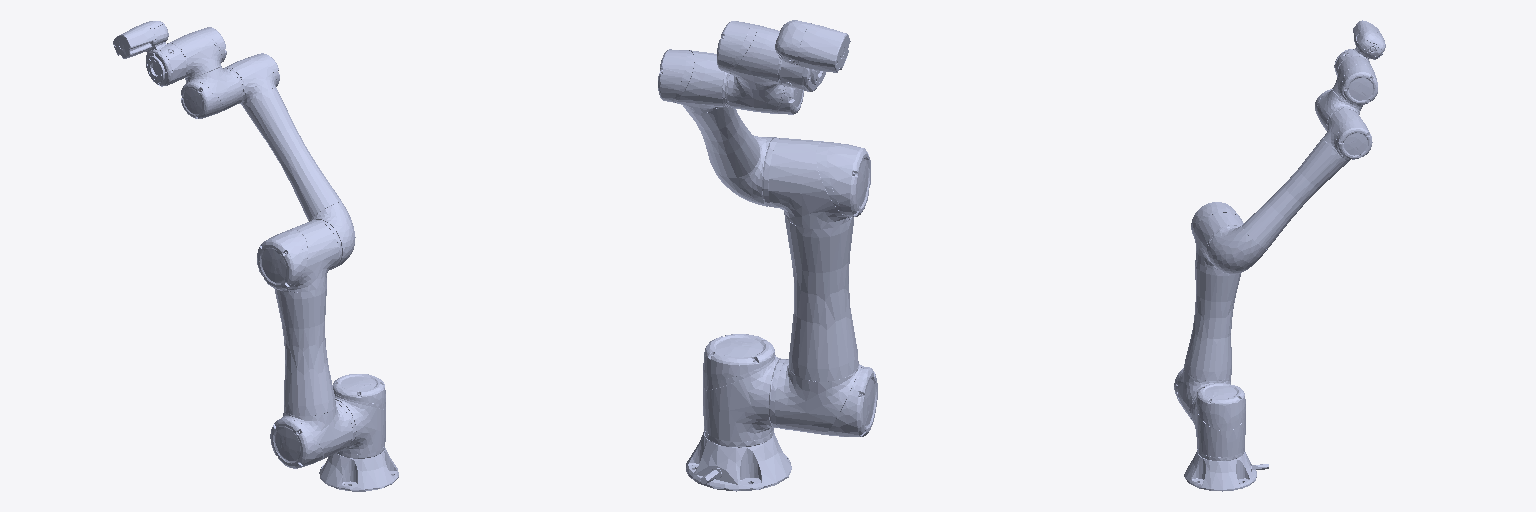
robot.urdf — tm5_900:
<?xml version="1.0" ?>
<!-- =================================================================================== -->
<!-- |    This document was autogenerated by xacro from src/tm5_900/urdf/tm5_900.urdf.xacro | -->
<!-- |    EDITING THIS FILE BY HAND IS NOT RECOMMENDED                                 | -->
<!-- =================================================================================== -->
<robot name="tm5_900">
  <link name="world"/>
  <joint name="base_joint" type="fixed">
    <origin rpy="0 0 0" xyz="0 0 0"/>
    <parent link="world"/>
    <child link="base_link"/>
  </joint>
  <link name="base_link">
    <inertial>
      <origin rpy="0 0 0" xyz="1.484e-06 0.000238812 0.028483455"/>
      <mass value="1.06337100987987"/>
      <inertia ixx="0.001820182" ixy="1.629e-06" ixz="-5.3e-08" iyy="0.001851119" iyz="-5.617e-06" izz="0.002906595"/>
    </inertial>
    <visual>
      <origin rpy="0 0 0" xyz="0 0 0"/>
      <geometry>
        <mesh filename="package://tm5_900/meshes/base_link.STL"/>
      </geometry>
      <material name="">
        <color rgba="0.792156862745098 0.819607843137255 0.933333333333333 1"/>
      </material>
    </visual>
    <!-- <collision>
        <origin xyz="0 0 0" rpy="0 0 0" />
        <geometry>
          <mesh filename="package://tm5_900/meshes/base_link.STL" />
        </geometry>
      </collision> -->
  </link>
  <link name="link1">
    <inertial>
      <origin rpy="0 0 0" xyz="-0.004985528 -0.001349578 0.079820705"/>
      <mass value="1.94965621478227"/>
      <inertia ixx="0.003360488" ixy="-1.7048e-05" ixz="0.000473241" iyy="0.003418932" iyz="0.000128103" izz="0.003748004"/>
    </inertial>
    <visual>
      <origin rpy="0 0 0" xyz="0 0 0"/>
      <geometry>
        <mesh filename="package://tm5_900/meshes/link1.STL"/>
      </geometry>
      <material name="">
        <color rgba="0.792156862745098 0.819607843137255 0.933333333333333 1"/>
      </material>
    </visual>
    <!-- <collision>
        <origin xyz="0 0 0" rpy="0 0 0" />
        <geometry>
          <mesh filename="package://tm5_900/meshes/link1.STL" />
        </geometry>
      </collision> -->
  </link>
  <joint name="link1_joint" type="revolute">
    <origin rpy="0.0 0.0 0.0" xyz="0.0 0.0 0.066"/>
    <parent link="base_link"/>
    <child link="link1"/>
    <axis xyz="0 0 -1"/>
    <limit effort="150.0" lower="-4.712" upper="4.712" velocity="3.141"/>
    <dynamics damping="0.1" friction="0.1"/>
  </joint>
  <link name="link2">
    <inertial>
      <origin rpy="0 0 0" xyz="-0.021473094 0.21342247 0.080476736"/>
      <mass value="6.39944621023157"/>
      <inertia ixx="0.029935285" ixy="0.001993175" ixz="-6e-09" iyy="0.010325352" iyz="6e-09" izz="0.030784769"/>
    </inertial>
    <visual>
      <origin rpy="0 0 0" xyz="0 0 0"/>
      <geometry>
        <mesh filename="package://tm5_900/meshes/link2.STL"/>
      </geometry>
      <material name="">
        <color rgba="0.792156862745098 0.819607843137255 0.933333333333333 1"/>
      </material>
    </visual>
    <!-- <collision>
        <origin xyz="0 0 0" rpy="0 0 0" />
        <geometry>
          <mesh filename="package://tm5_900/meshes/link2.STL" />
        </geometry>
      </collision> -->
  </link>
  <joint name="link2_joint" type="revolute">
    <origin rpy="1.5708 0.0 -1.3064" xyz="-0.064479 -0.017456 0.0815"/>
    <parent link="link1"/>
    <child link="link2"/>
    <axis xyz="0 0 -1"/>
    <limit effort="150.0" lower="-3.141" upper="3.141" velocity="3.141"/>
    <dynamics damping="0.1" friction="0.1"/>
  </joint>
  <link name="link3">
    <inertial>
      <origin rpy="0 0 0" xyz="0.131851812 0.166464143 0.047068671"/>
      <mass value="2.93877134811613"/>
      <inertia ixx="0.009780698" ixy="-0.005580689" ixz="-3.1608e-05" iyy="0.007155136" iyz="-4.0067e-05" izz="0.014350517"/>
    </inertial>
    <visual>
      <origin rpy="0 0 0" xyz="0 0 0"/>
      <geometry>
        <mesh filename="package://tm5_900/meshes/link3.STL"/>
      </geometry>
      <material name="">
        <color rgba="0.792156862745098 0.819607843137255 0.933333333333333 1"/>
      </material>
    </visual>
    <!-- <collision>
        <origin xyz="0 0 0" rpy="0 0 0" />
        <geometry>
          <mesh filename="package://tm5_900/meshes/link3.STL" />
        </geometry>
      </collision> -->
  </link>
  <joint name="link3_joint" type="revolute">
    <origin rpy="3.1416 0.0 -3.0413" xyz="-0.042946 0.42684 0.0"/>
    <parent link="link2"/>
    <child link="link3"/>
    <axis xyz="0 0 -1"/>
    <limit effort="150.0" lower="-2.705" upper="2.705" velocity="3.141"/>
    <dynamics damping="0.1" friction="0.1"/>
  </joint>
  <link name="link4">
    <inertial>
      <origin rpy="0 0 0" xyz="0.000958659 0.004002076 0.058436135"/>
      <mass value="0.784300640139411"/>
      <inertia ixx="0.000777536" ixy="-2.838e-06" ixz="-2.6221e-05" iyy="0.000765864" iyz="-0.000109647" izz="0.000826338"/>
    </inertial>
    <visual>
      <origin rpy="0 0 0" xyz="0 0 0"/>
      <geometry>
        <mesh filename="package://tm5_900/meshes/link4.STL"/>
      </geometry>
      <material name="">
        <color rgba="0.792156862745098 0.819607843137255 0.933333333333333 1"/>
      </material>
    </visual>
    <!-- <collision>
        <origin xyz="0 0 0" rpy="0 0 0" />
        <geometry>
          <mesh filename="package://tm5_900/meshes/link4.STL" />
        </geometry>
      </collision> -->
  </link>
  <joint name="link4_joint" type="revolute">
    <origin rpy="-3.1416 0.0 2.4717" xyz="0.2555 0.32257 -0.008"/>
    <parent link="link3"/>
    <child link="link4"/>
    <axis xyz="0 0 -1"/>
    <limit effort="150.0" lower="-3.141" upper="3.141" velocity="3.927"/>
    <dynamics damping="0.1" friction="0.1"/>
  </joint>
  <link name="link5">
    <inertial>
      <origin rpy="0 0 0" xyz="6.3768e-05 -5.283e-06 0.045584635"/>
      <mass value="0.784295948614627"/>
      <inertia ixx="0.000825367" ixy="-6.788e-06" ixz="-0.000111586" iyy="0.000779162" iyz="1.6084e-05" izz="0.000765206"/>
    </inertial>
    <visual>
      <origin rpy="0 0 0" xyz="0 0 0"/>
      <geometry>
        <mesh filename="package://tm5_900/meshes/link5.STL"/>
      </geometry>
      <material name="">
        <color rgba="0.792156862745098 0.819607843137255 0.933333333333333 1"/>
      </material>
    </visual>
    <!-- <collision>
        <origin xyz="0 0 0" rpy="0 0 0" />
        <geometry>
          <mesh filename="package://tm5_900/meshes/link5.STL" />
        </geometry>
      </collision> -->
  </link>
  <joint name="link5_joint" type="revolute">
    <origin rpy="-0.53433 -1.5708 -1.2417" xyz="0.011533 0.048343 0.0585"/>
    <parent link="link4"/>
    <child link="link5"/>
    <axis xyz="0 0 -1"/>
    <limit effort="150.0" lower="-3.141" upper="3.141" velocity="3.927"/>
    <dynamics damping="0.1" friction="0.1"/>
  </joint>
  <link name="link6">
    <inertial>
      <origin rpy="0 0 0" xyz="-0.003225184 0.041925552 0.04049585"/>
      <mass value="0.667417377007754"/>
      <inertia ixx="0.000832763" ixy="3.6663e-05" ixz="1.826e-06" iyy="0.000383001" iyz="-1.4287e-05" izz="0.000952325"/>
    </inertial>
    <visual>
      <origin rpy="0 0 0" xyz="0 0 0"/>
      <geometry>
        <mesh filename="package://tm5_900/meshes/link6.STL"/>
      </geometry>
      <material name="">
        <color rgba="0.792156862745098 0.819607843137255 0.933333333333333 1"/>
      </material>
    </visual>
    <!-- <collision>
        <origin xyz="0 0 0" rpy="0 0 0" />
        <geometry>
          <mesh filename="package://tm5_900/meshes/link6.STL" />
        </geometry>
      </collision> -->
  </link>
  <joint name="link6_joint" type="revolute">
    <origin rpy="1.5708 0.0 1.4267" xyz="0.057893 -0.0084026 0.0497"/>
    <parent link="link5"/>
    <child link="link6"/>
    <axis xyz="0 0 -1"/>
    <limit effort="150.0" lower="-4.712" upper="4.712" velocity="3.927"/>
    <dynamics damping="0.1" friction="0.1"/>
  </joint>
  <ros2_control name="tm5_900_ros2_control" type="system">
    <hardware>
      <plugin>mock_components/GenericSystem</plugin>
    </hardware>
    <joint name="link1_joint">
      <command_interface name="position">
        <param name="min">-4.712</param>
        <param name="max">4.712</param>
      </command_interface>
      <state_interface name="position"/>
      <state_interface name="velocity"/>
    </joint>
    <joint name="link2_joint">
      <command_interface name="position">
        <param name="min">-3.141</param>
        <param name="max">3.141</param>
      </command_interface>
      <state_interface name="position"/>
      <state_interface name="velocity"/>
    </joint>
    <joint name="link3_joint">
      <command_interface name="position">
        <param name="min">-2.705</param>
        <param name="max">2.705</param>
      </command_interface>
      <state_interface name="position"/>
      <state_interface name="velocity"/>
    </joint>
    <joint name="link4_joint">
      <command_interface name="position">
        <param name="min">-3.141</param>
        <param name="max">3.141</param>
      </command_interface>
      <state_interface name="position"/>
      <state_interface name="velocity"/>
    </joint>
    <joint name="link5_joint">
      <command_interface name="position">
        <param name="min">-3.141</param>
        <param name="max">3.141</param>
      </command_interface>
      <state_interface name="position"/>
      <state_interface name="velocity"/>
    </joint>
    <joint name="link6_joint">
      <command_interface name="position">
        <param name="min">-4.712</param>
        <param name="max">4.712</param>
      </command_interface>
      <state_interface name="position"/>
      <state_interface name="velocity"/>
    </joint>
  </ros2_control>
</robot>

--- Facts derived from the render (not from the file) ---
Views: 3 orthographic renders of the robot side by side, from view 1: azimuth 30°, elevation 25°; view 2: azimuth 150°, elevation 25°; view 3: azimuth 270°, elevation 25°.
Robot: tm5_900 — 8 links, 7 joints (6 revolute, 1 fixed); root link world; default pose: every joint at zero.
Visible links, largest first — view 1: link2, link3, link1, link6, base_link, link4, link5; view 2: link2, link3, link1, base_link, link6, link5, link4; view 3: link3, link2, link1, base_link, link5, link6, link4.
Link boxes in pixels (bbox=[...]): link2: bbox=[257, 220, 355, 468]; link3: bbox=[223, 53, 355, 268]; link1: bbox=[333, 374, 385, 458]; link6: bbox=[113, 21, 186, 86]; base_link: bbox=[319, 448, 398, 491]; link4: bbox=[181, 66, 243, 118]; link5: bbox=[167, 27, 226, 80]; link2: bbox=[762, 137, 877, 436]; link3: bbox=[658, 49, 775, 206]; link1: bbox=[703, 334, 780, 447]; base_link: bbox=[686, 432, 791, 491]; link6: bbox=[775, 20, 850, 91]; link5: bbox=[717, 21, 782, 89]; link4: bbox=[725, 73, 803, 114]; link3: bbox=[1208, 109, 1372, 273]; link2: bbox=[1174, 202, 1243, 419]; link1: bbox=[1191, 383, 1245, 460]; base_link: bbox=[1184, 452, 1268, 491]; link5: bbox=[1332, 56, 1377, 106]; link6: bbox=[1334, 20, 1385, 76]; link4: bbox=[1315, 89, 1361, 130].
Bounding box of the posed robot: 0.4979 × 0.5145 × 1.04 m (x, y, z).
7 mesh visuals loaded from 7 distinct referenced files (7 binary STL).
